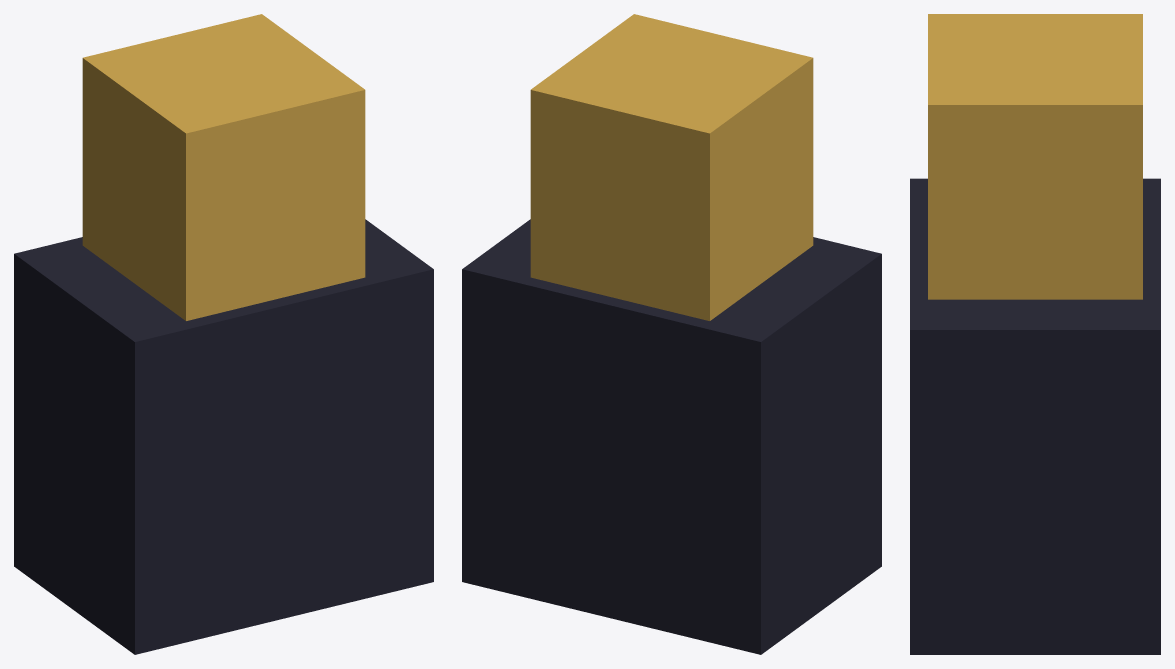
Rendered from hanok_giwa_ridge_end.glb.
The picture shows the model from 3 angles, left to right: view 1: azimuth 30°, elevation 25°; view 2: azimuth 150°, elevation 25°; view 3: azimuth 270°, elevation 25°; orthographic projection. The views are drawn at different scales.
Parts seen in each view (by area): view 1: hanok_giwa_ridge_end; view 2: hanok_giwa_ridge_end; view 3: hanok_giwa_ridge_end.
Boxes of the visible parts, bbox=[...] form: hanok_giwa_ridge_end: bbox=[14, 14, 433, 654]; hanok_giwa_ridge_end: bbox=[462, 14, 881, 654]; hanok_giwa_ridge_end: bbox=[910, 14, 1160, 654].
Bounding box in the file's own units: 0.5 × 0.8 × 0.35.
